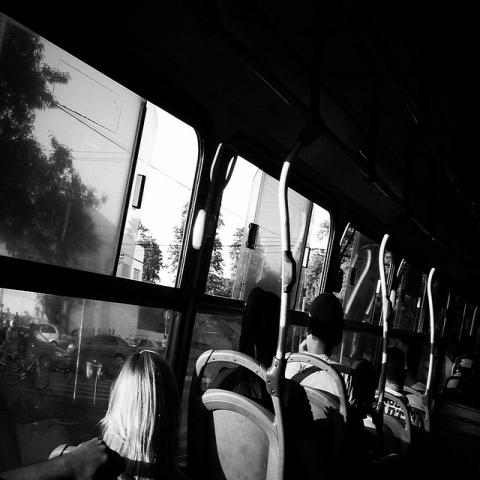car: (17, 324, 73, 373), (71, 338, 134, 371), (36, 322, 74, 346), (127, 337, 164, 356)
